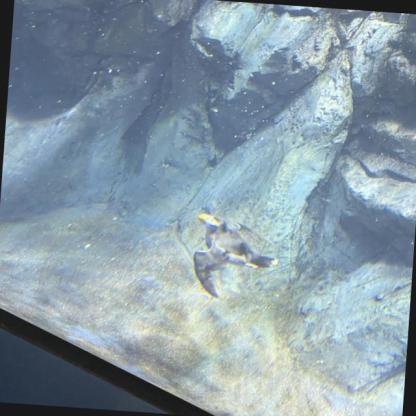fish: (256, 67, 326, 105)
puffin: (180, 207, 283, 302)
